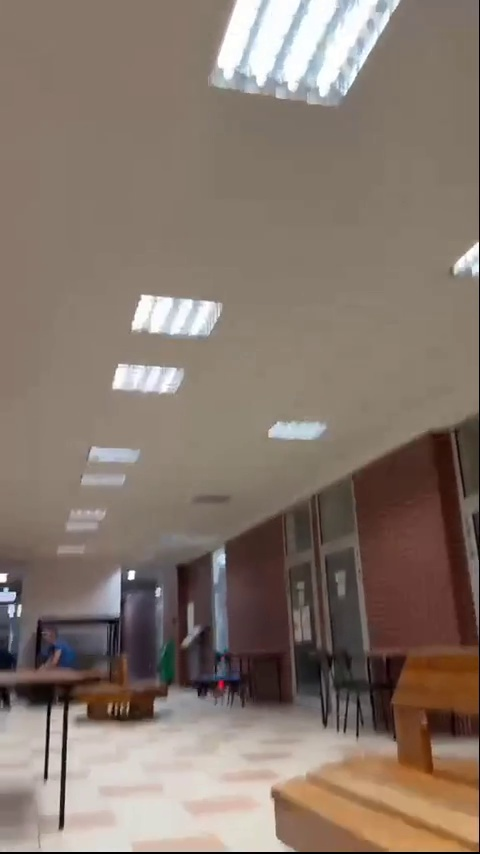drone: (189, 676, 247, 697)
no vest: (39, 621, 76, 671)
